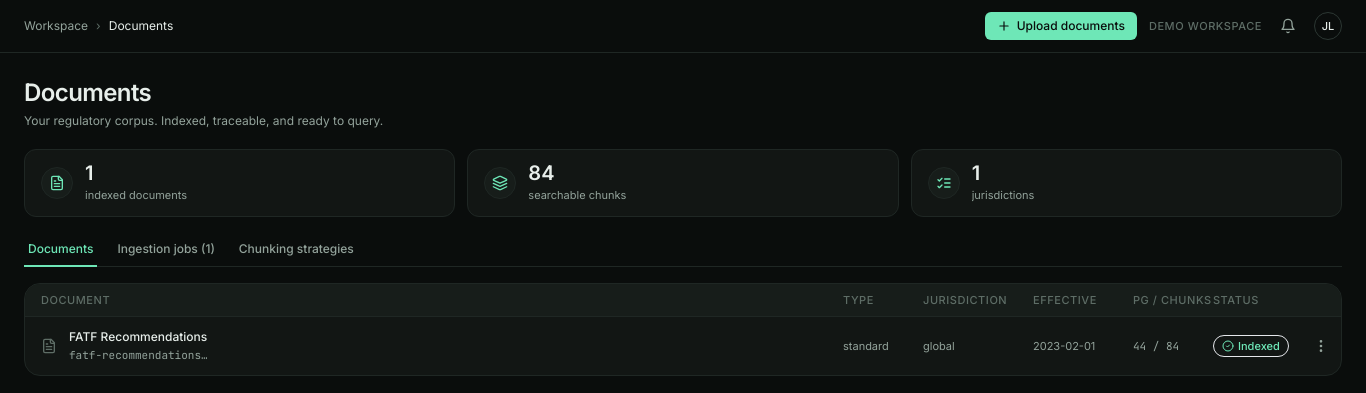
Test: DocumentsPage › switches to the jobs tab
Expected: the text "FATF Recommendations" is shown, [69,329,209,345]
Click the button "Ingestion jobs (1)".
click(166, 254)  # box [113,241,219,267]
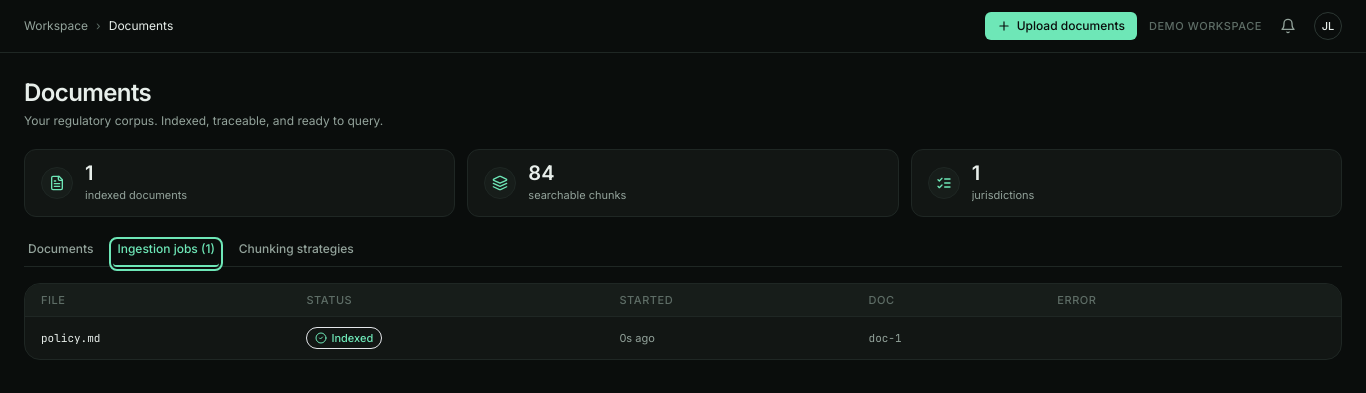
Expected: the text "policy.md" is shown, [25,316,290,359]
